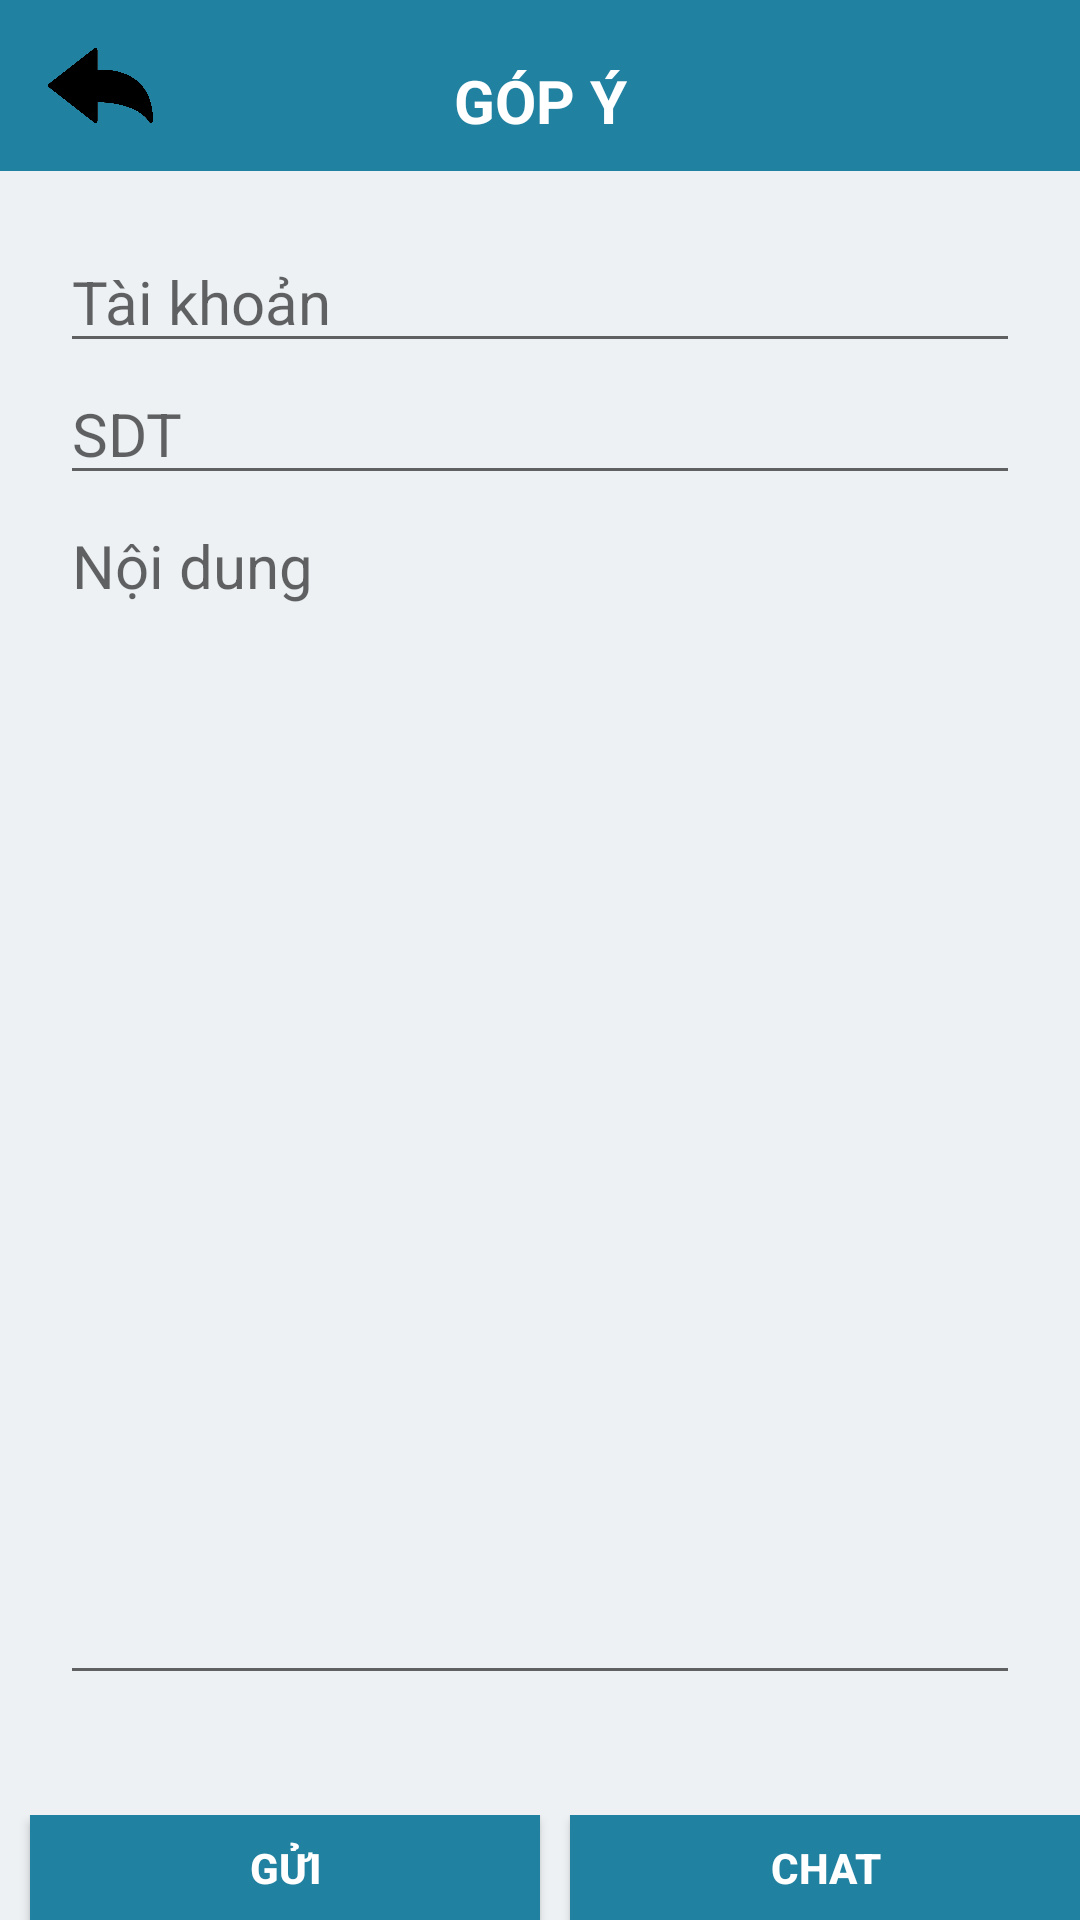

Where icons sit on this 1080px×1920px app screen, as [x1=x1, y1=y1, x2=x2, y2=y2]:
quaylai: [x1=48, y1=48, x2=153, y2=123]
